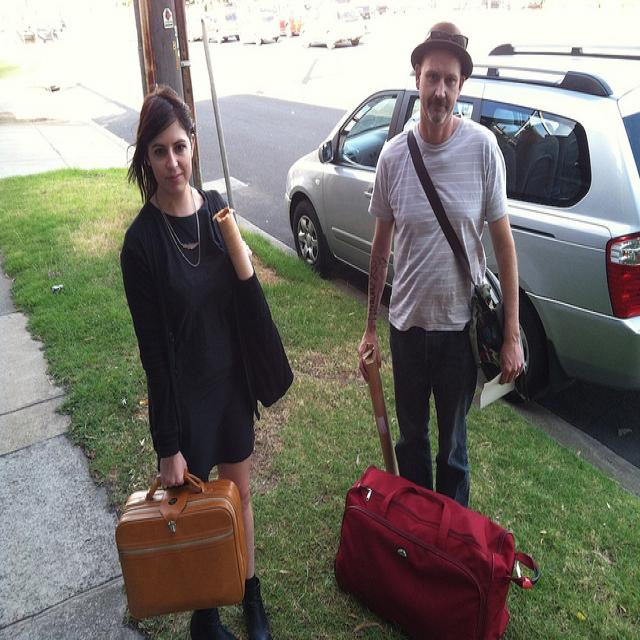Vehicle: (282, 37, 640, 407), (299, 6, 366, 48), (205, 4, 242, 44), (240, 11, 280, 46)
